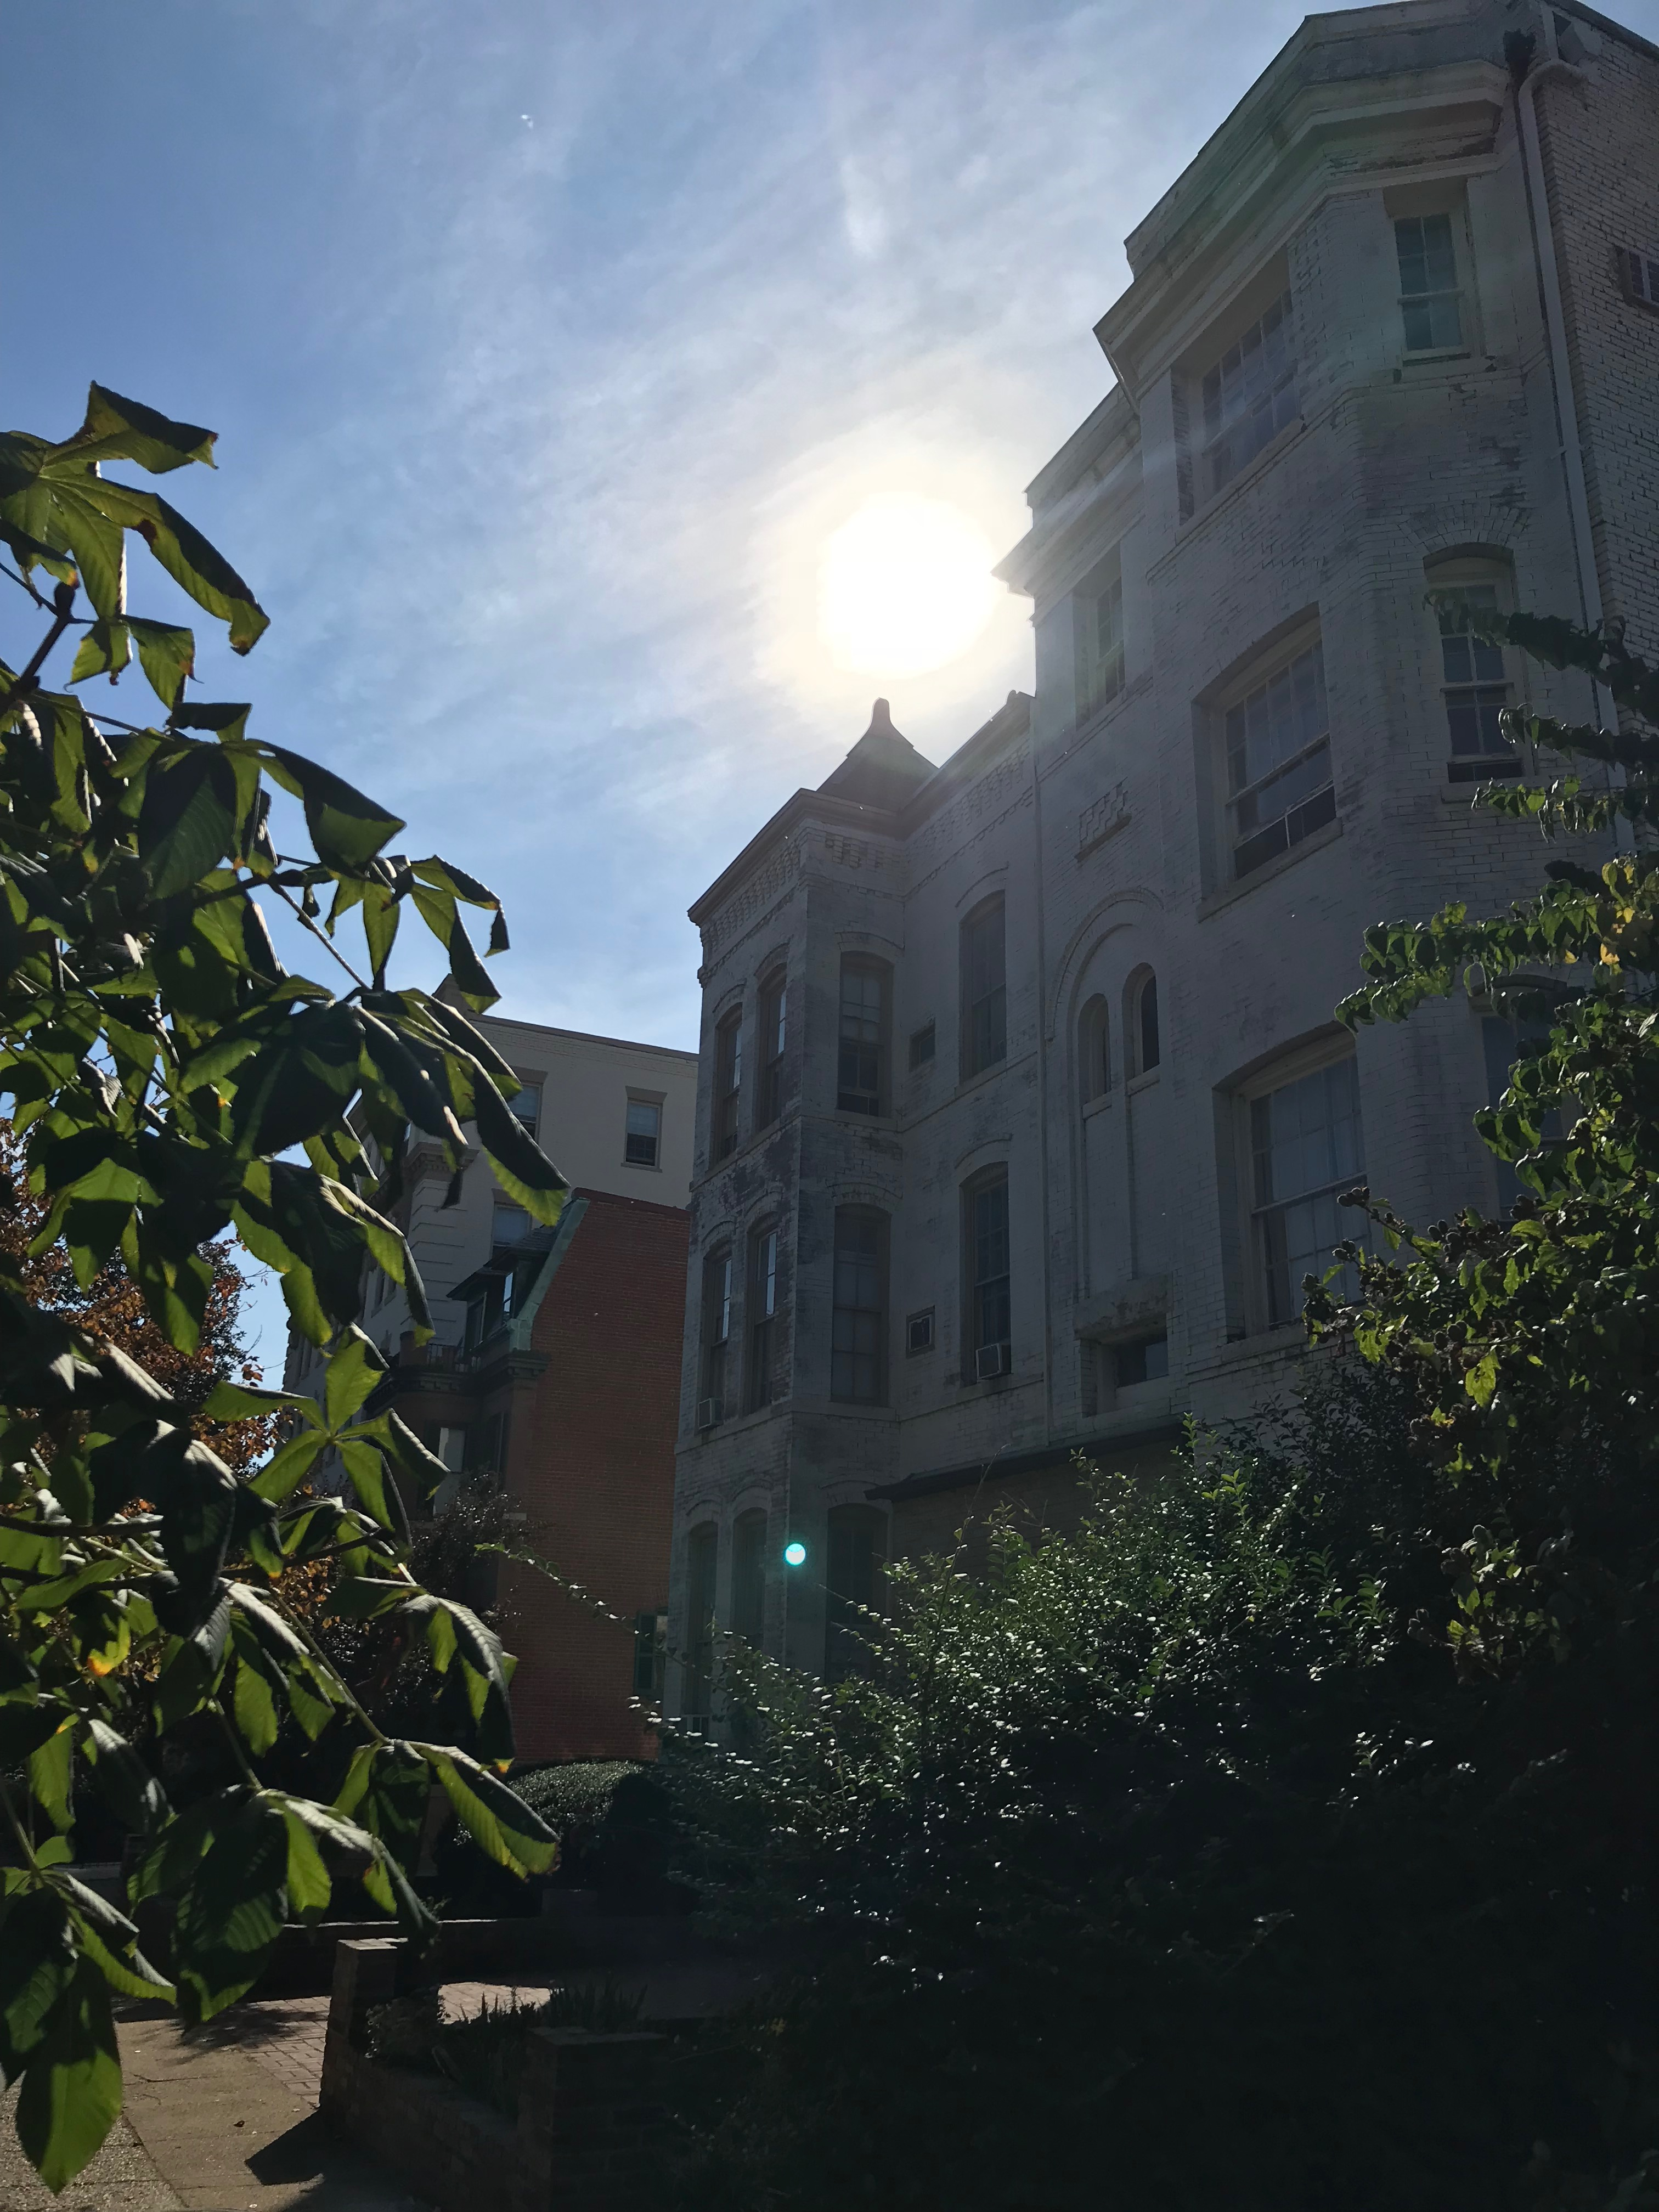flare: (782, 1540, 809, 1569)
